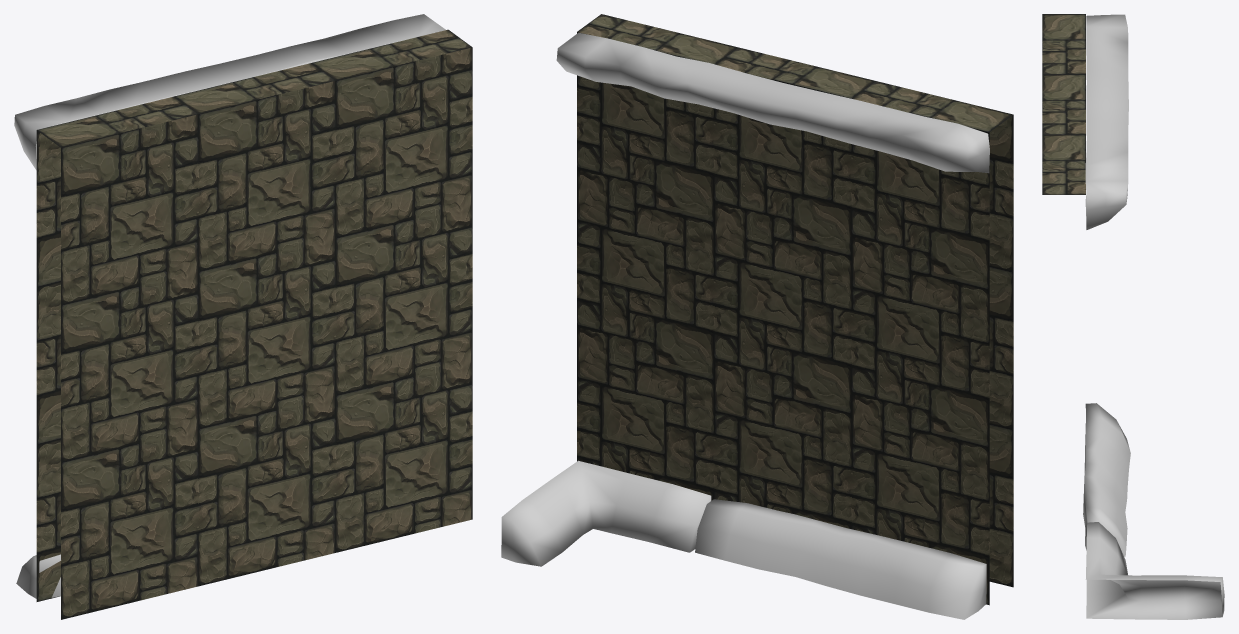
The model's file is wall_L_corner.fbx.
3 views of the same model, side by side, from view 1: azimuth 30°, elevation 25°; view 2: azimuth 150°, elevation 25°; view 3: azimuth 270°, elevation 25° (orthographic). The views are drawn at different scales.
Visible parts, largest first — view 1: pCube1, polySurface1; view 2: pCube1, polySurface1; view 3: polySurface1, pCube1.
Part boxes in pixels (<box>): pCube1: <box>36,29,472,619</box>; polySurface1: <box>14,14,445,598</box>; pCube1: <box>577,14,1013,605</box>; polySurface1: <box>501,32,989,619</box>; polySurface1: <box>1083,14,1224,619</box>; pCube1: <box>1042,14,1085,194</box>.
Size of the model in its own units: 9.85 by 10.77 by 4.17.
